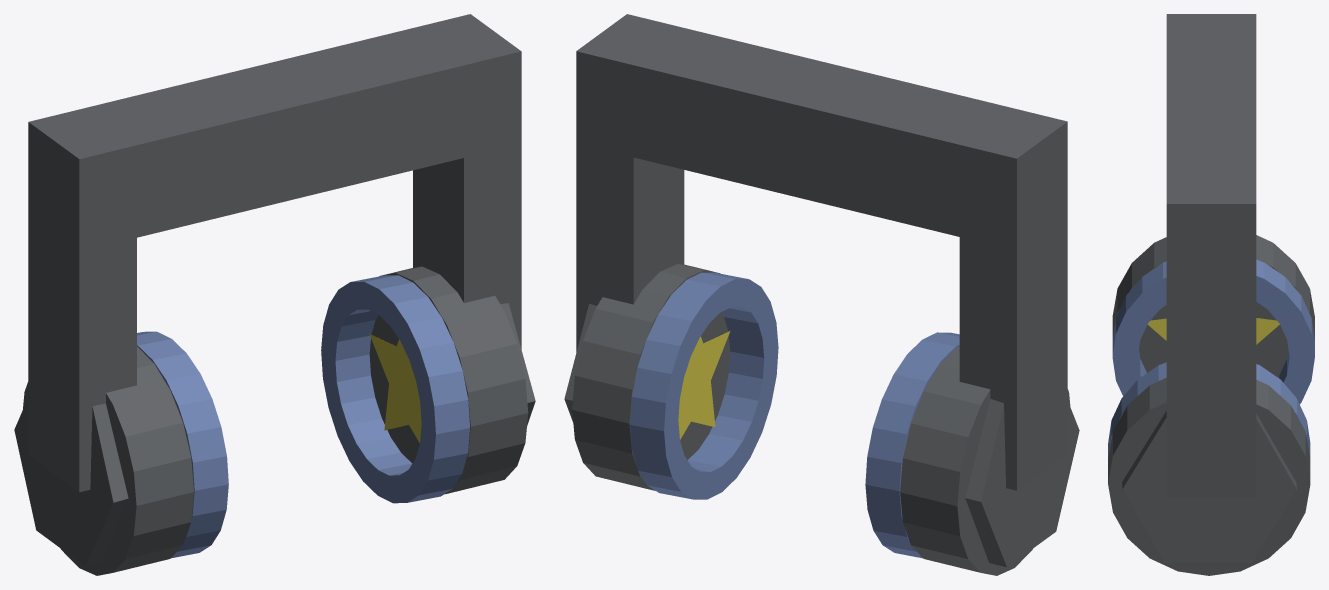
The model's file is asset.glb.
3 views of the same model, side by side, from view 1: azimuth 30°, elevation 25°; view 2: azimuth 150°, elevation 25°; view 3: azimuth 270°, elevation 25° (orthographic). The views are drawn at different scales.
Visible parts, largest first — view 1: Mesh_Mesh_head_geo.001_lambert2SG.001; view 2: Mesh_Mesh_head_geo.001_lambert2SG.001; view 3: Mesh_Mesh_head_geo.001_lambert2SG.001.
Boxes of the visible parts, x1,y1,x2,y2 form: Mesh_Mesh_head_geo.001_lambert2SG.001: (14, 14, 535, 575); Mesh_Mesh_head_geo.001_lambert2SG.001: (564, 14, 1079, 575); Mesh_Mesh_head_geo.001_lambert2SG.001: (1108, 14, 1314, 575).
Bounding box in the file's own units: 100 × 94 × 46.
